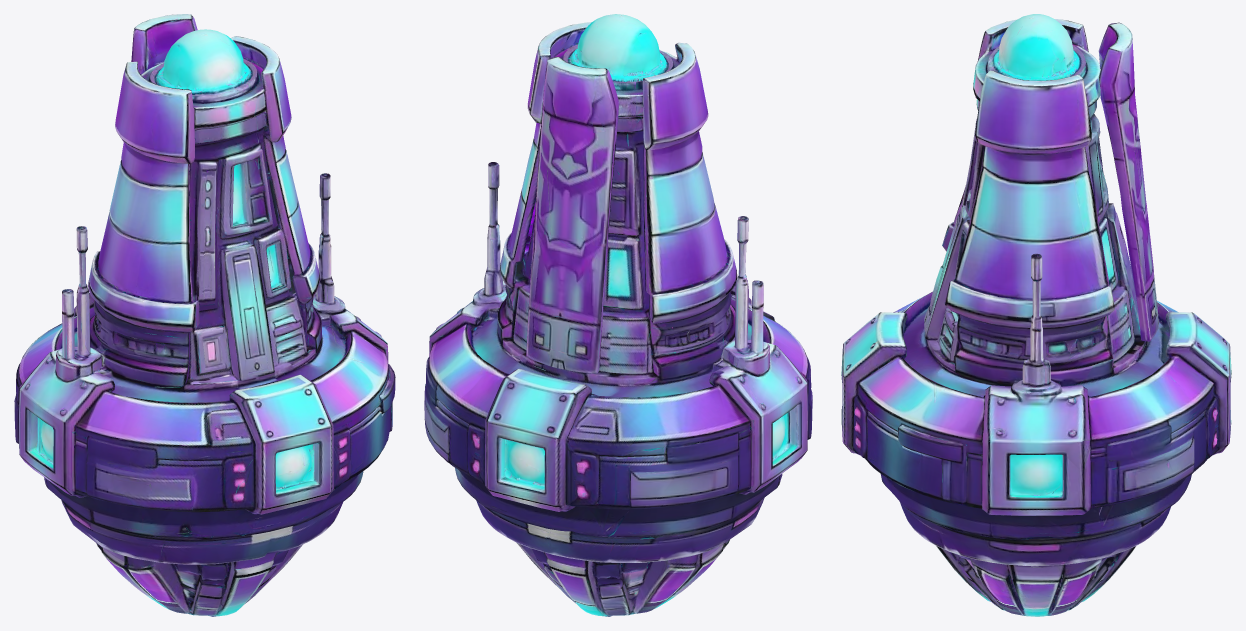
File: model.opt.glb
3 renders of one model, left to right at view 1: azimuth 30°, elevation 25°; view 2: azimuth 150°, elevation 25°; view 3: azimuth 270°, elevation 25°, orthographic. The views are drawn at different scales.
Visible parts, largest first — view 1: Mesh_0; view 2: Mesh_0; view 3: Mesh_0.
Part boxes in pixels (box(x1,y1,x2,y2)): Mesh_0: box(14, 14, 395, 616); Mesh_0: box(424, 14, 812, 616); Mesh_0: box(841, 14, 1231, 616).
Size of the model in its own units: 1.14 by 1.9 by 1.14.
1 material, 1 textured.
